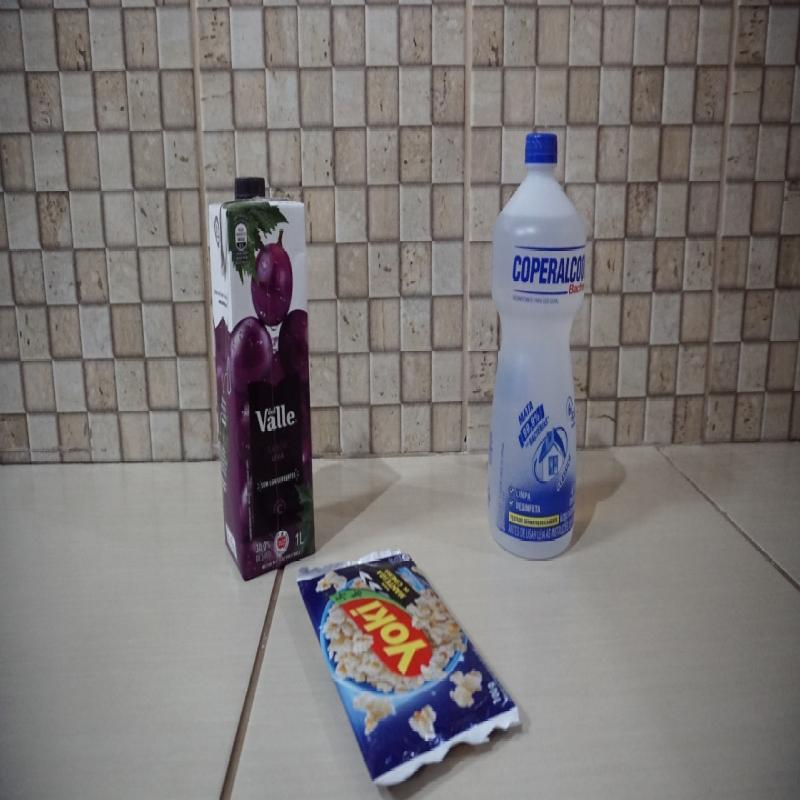Alcohol Bottle: (491, 128, 583, 556)
Popcorn: (299, 550, 524, 786)
